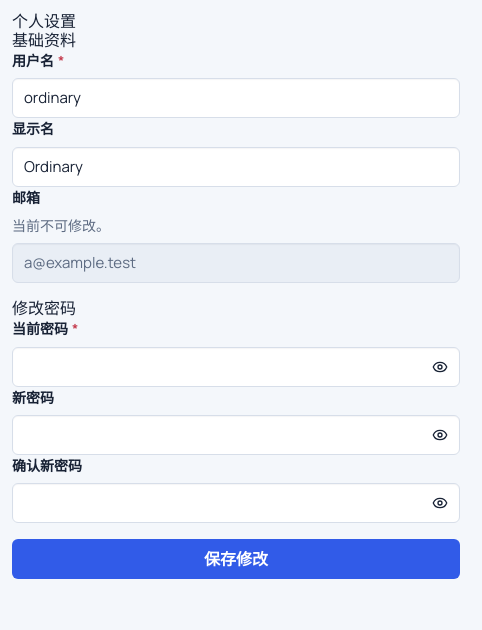
Test: 个人设置表单 › 用户名过短时客户端直接拦截
Replace the text in the field labelled "用户名*" with "ab": coordinates (236, 98) [12,78,460,118]
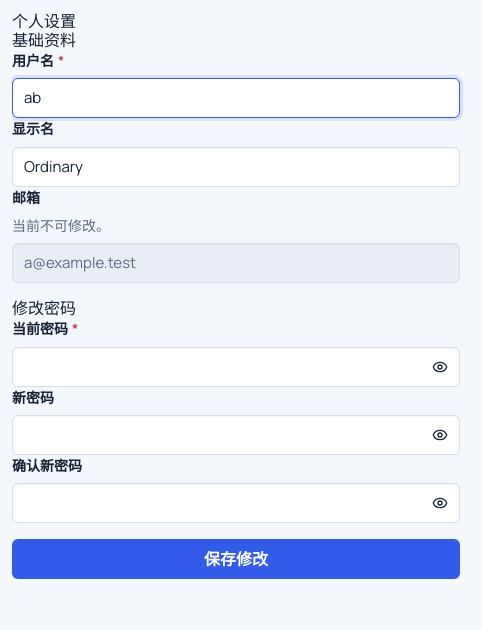
In the password field labelled "当前密码*": coordinates (236, 367) [12,347,460,387], type "correct-123"
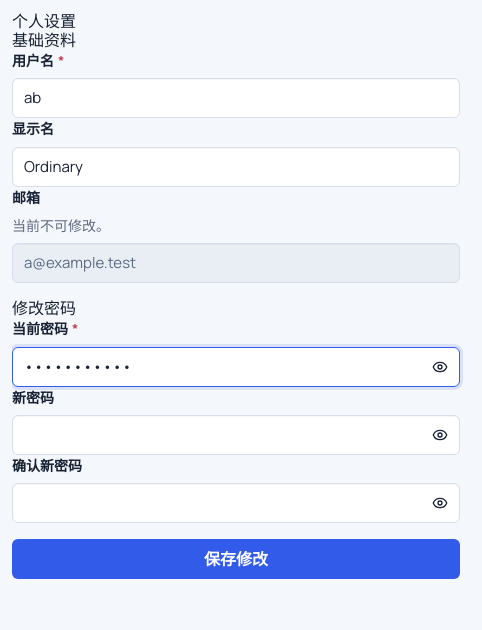
Click the button "保存修改": coordinates (236, 559) [12,539,460,579]
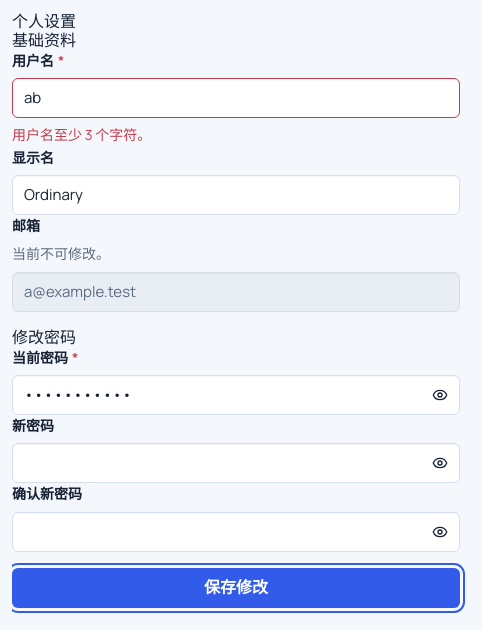
expect the text "用户名至少 3 个字符。" is shown: met, box [12,125,151,144]
